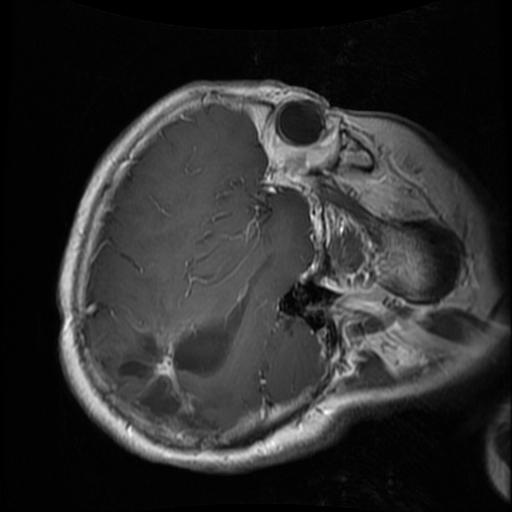glioma: (113, 255, 272, 429)
